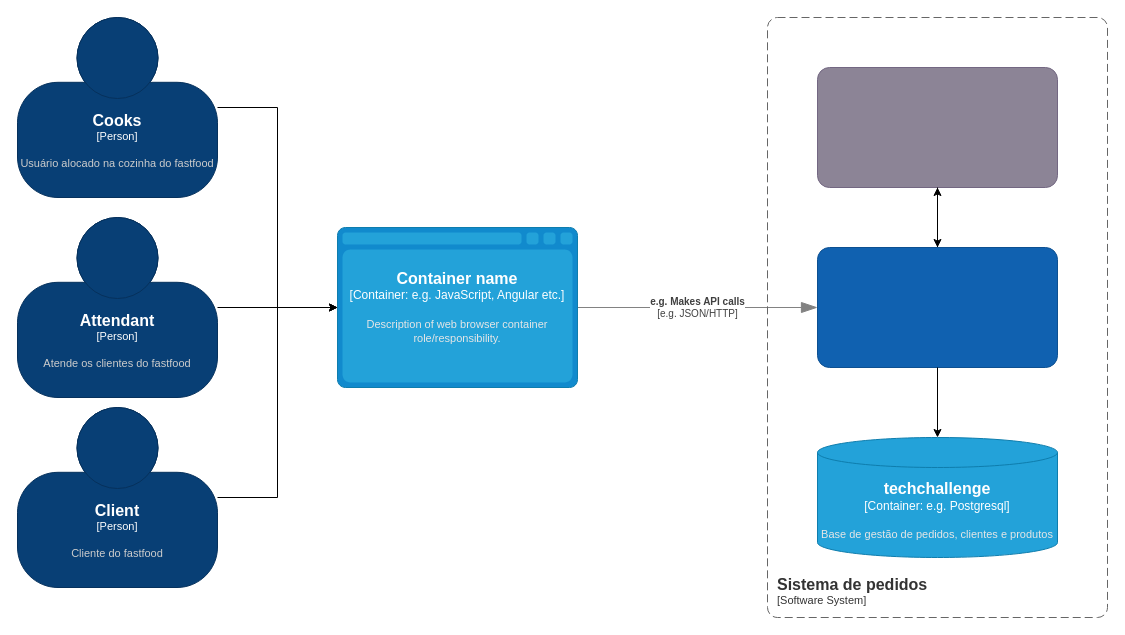
This 1125x635 diagram has some shape labels left out. The shapes that lost their labels are listed below. From the top down, each one's centre as x and y in pixels, then its label:
the point at 937,127: Mercado Pago [Software System] Gateway de pagamentos
the point at 937,307: tech-challenge-group-12 [Container: Springboot] tech-challenge-group-12
